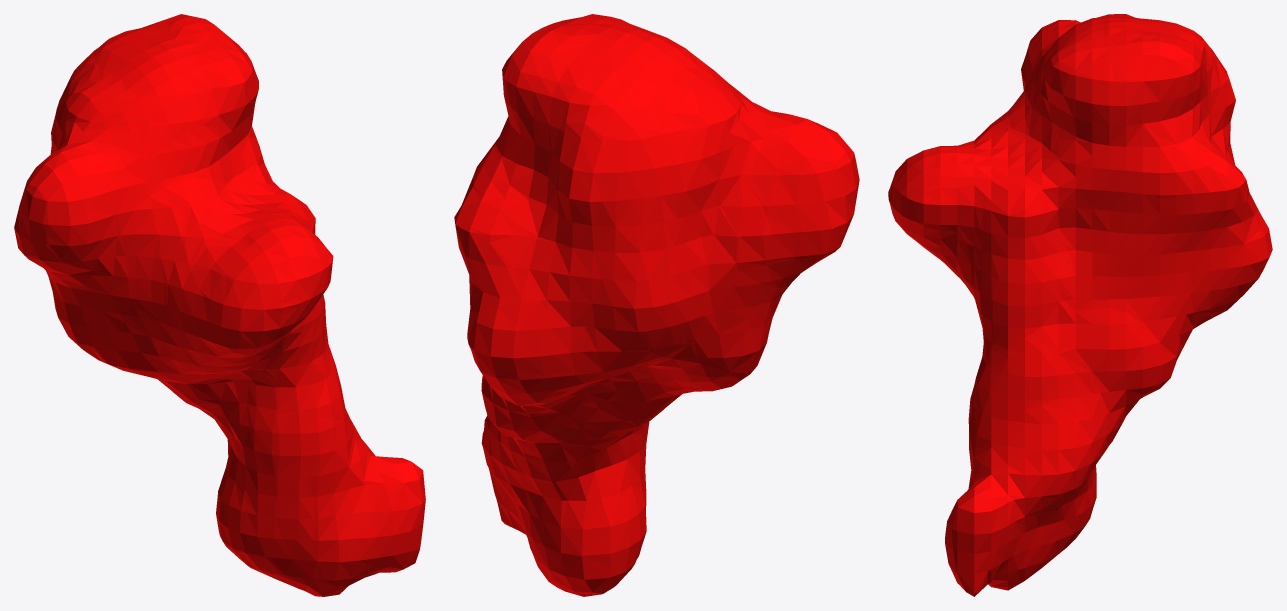
File: zur_coarse.dae
3 views of the same model, side by side, from view 1: azimuth 30°, elevation 25°; view 2: azimuth 150°, elevation 25°; view 3: azimuth 270°, elevation 25° (orthographic). The views are drawn at different scales.
Parts seen in each view (by area): view 1: zur; view 2: zur; view 3: zur.
Part boxes in pixels (x1,y1,x2,y2): zur: (14, 14, 425, 596); zur: (454, 14, 859, 596); zur: (888, 14, 1272, 596).
Bounding box in the file's own units: 47.58 × 68.74 × 46.08.
